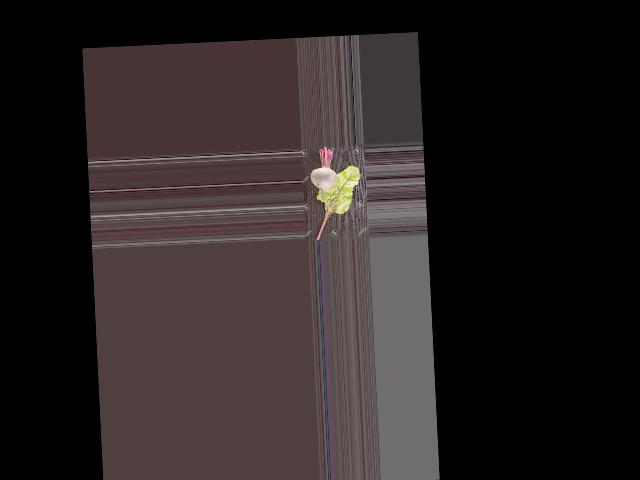beet: (308, 145, 338, 214)
